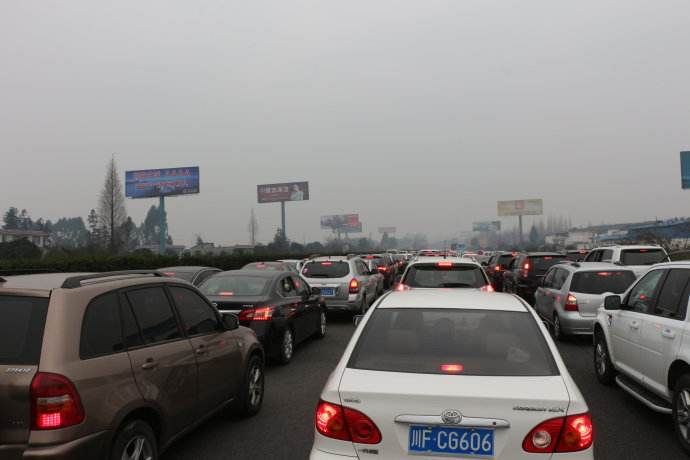car: (1, 267, 261, 460), (306, 288, 594, 460), (197, 266, 327, 362), (392, 253, 496, 355), (534, 262, 646, 347)
suv: (595, 260, 690, 454), (581, 243, 673, 318), (297, 254, 382, 315)
